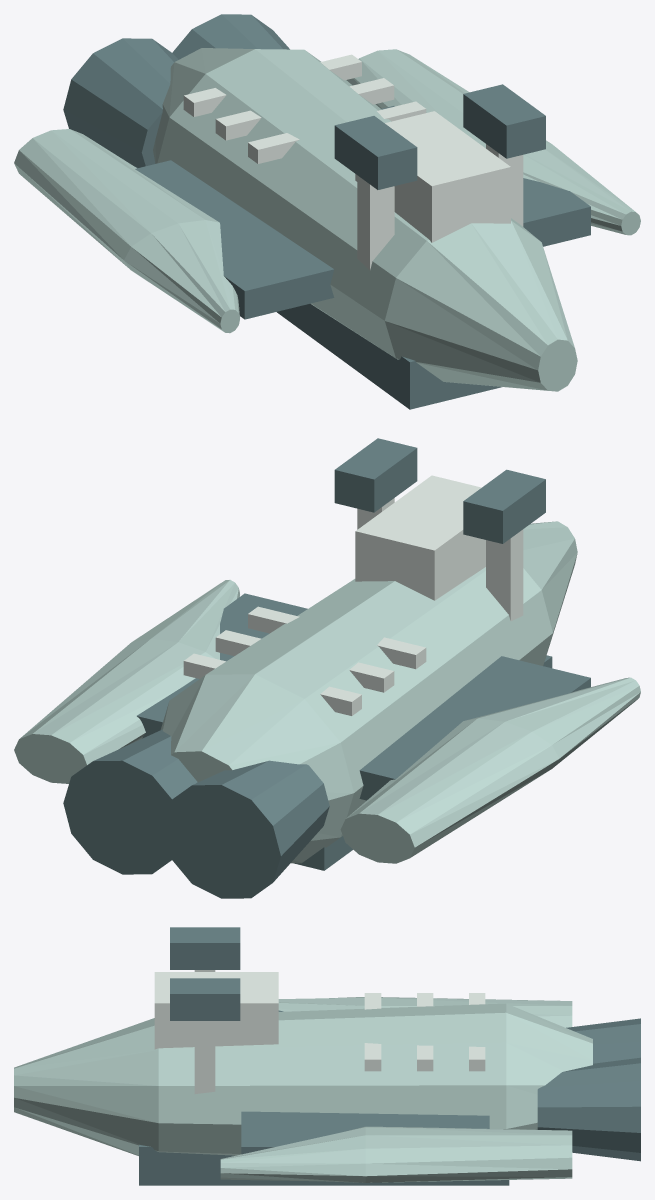
The picture shows the model from 3 angles, top to bottom: view 1: azimuth 30°, elevation 25°; view 2: azimuth 150°, elevation 25°; view 3: azimuth 270°, elevation 25°; orthographic projection. The views are drawn at different scales.
Size of the model in its own units: 4.19 by 2.33 by 6.43.
